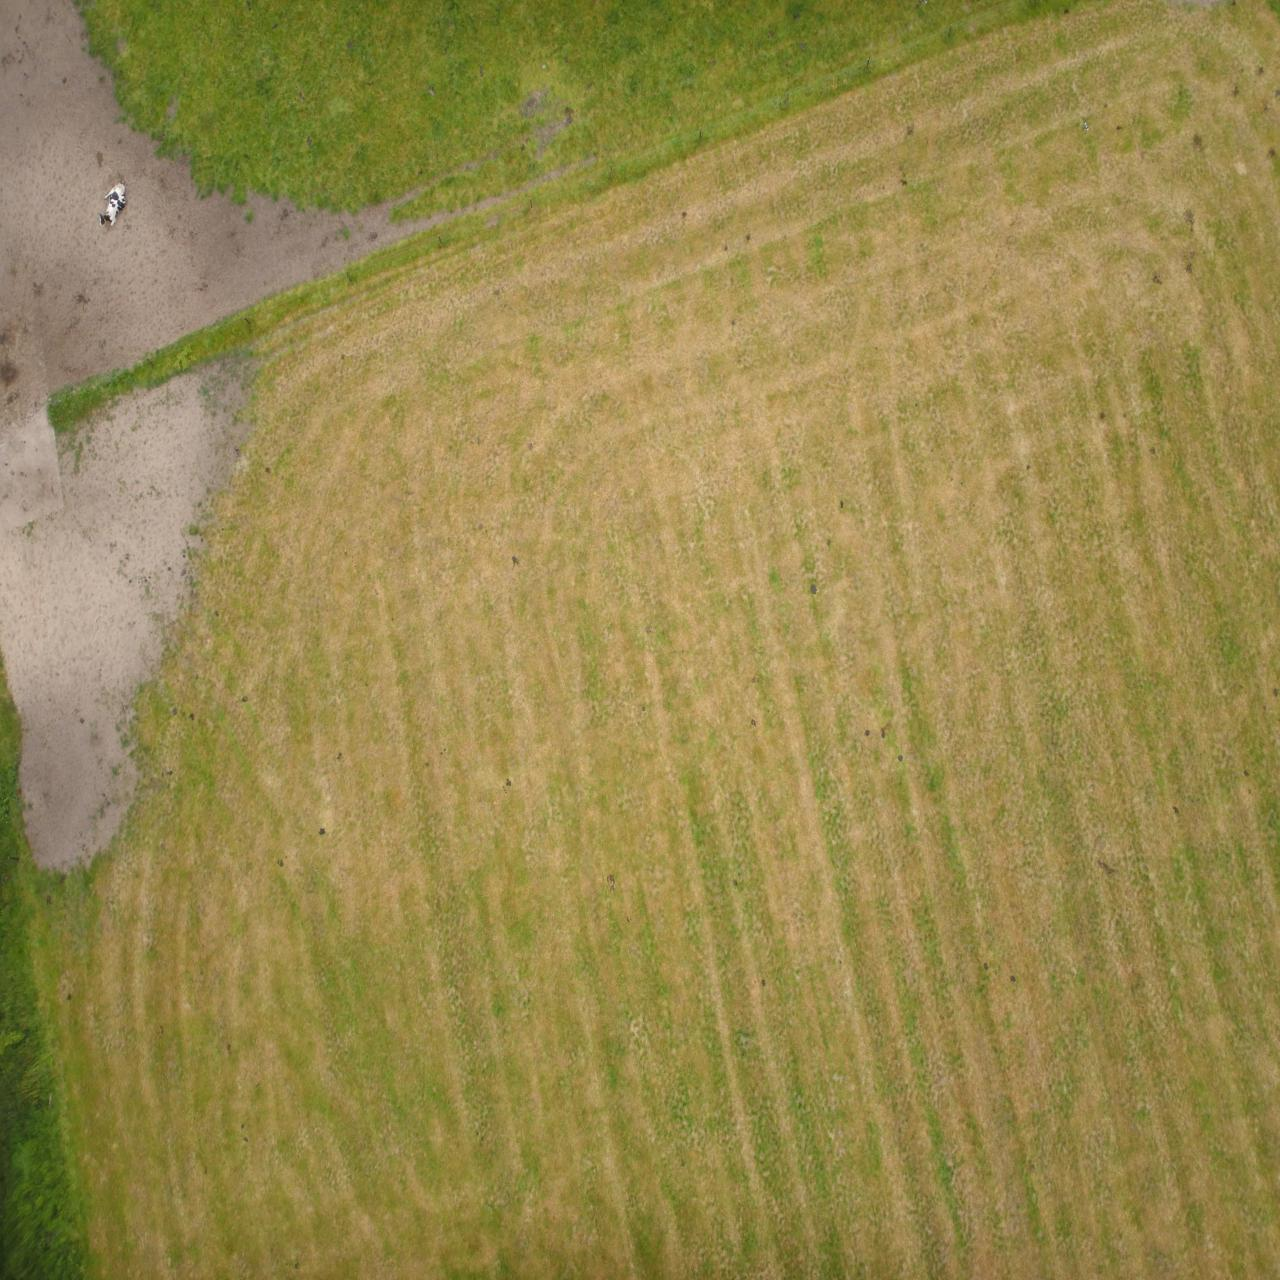cow: (1154, 1054, 1181, 1098)
